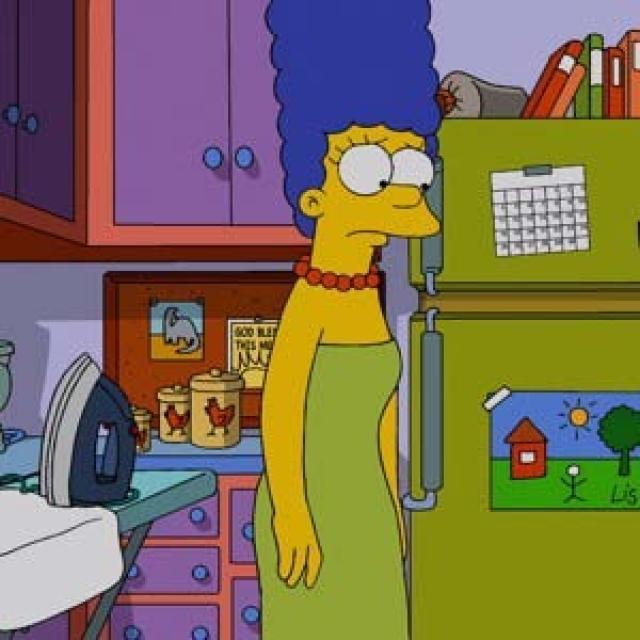Marge Simpson: (259, 0, 458, 299)
